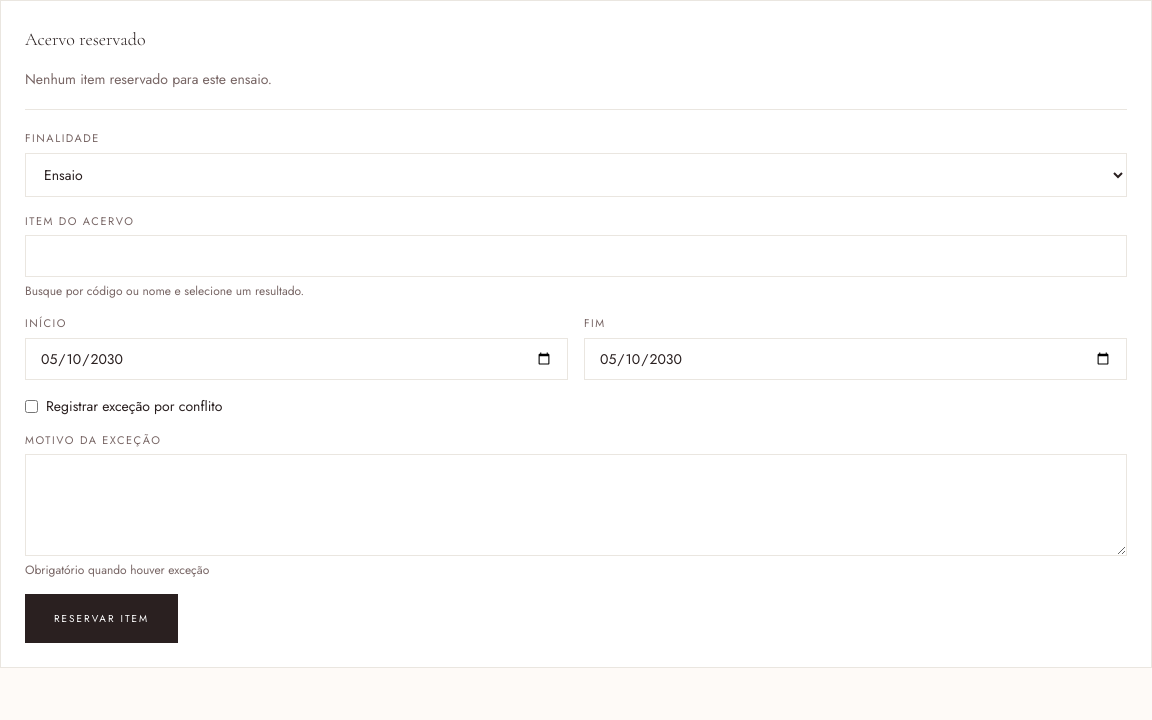
Test: shoot inventory reservations › labels the manual interval end as the planned return date for rentals
The image size is (1152, 720).
Expected: the date field labelled "Fim" is shown, [584,338,1127,380]
Select "Aluguel" in the dropdown labelled "Finalidade". click: (576, 174)
box: [25,152,1127,196]
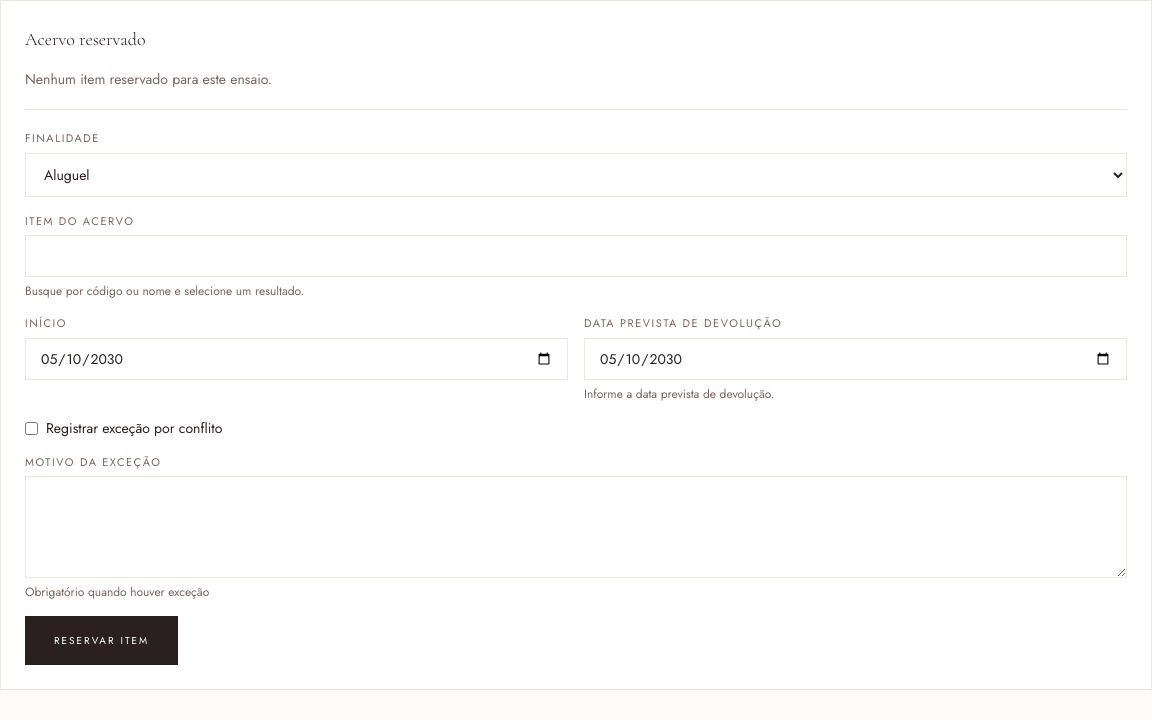
Expected: the date field labelled "Data prevista de devolução" is shown, [584,338,1127,380]
Now the text "Informe a data prevista de devolução." is shown, box [584,384,774,402]
